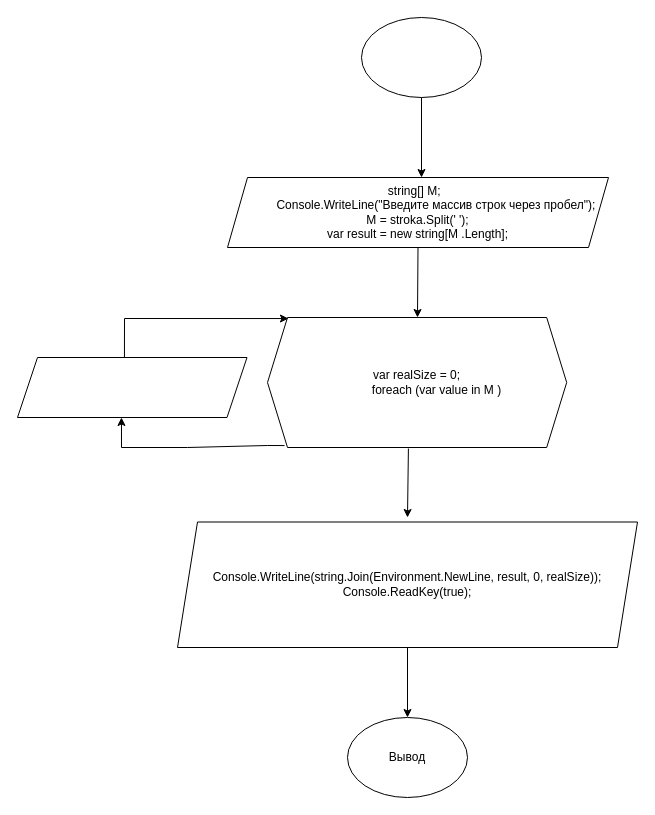
The diagram is 655 pixels wide and 815 high, and some of its shapes have lost their labels. Here are the shapes that lost their labels. From the top down, the box of each, then its label:
(360, 16, 482, 98): Начало
(16, 356, 247, 418): result[realSize] = value; realSize++;
